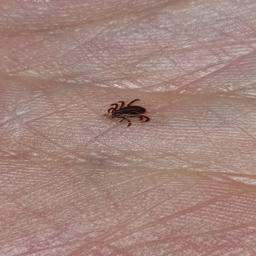Rhipicephalus sanguineus: (105, 97, 150, 127)
